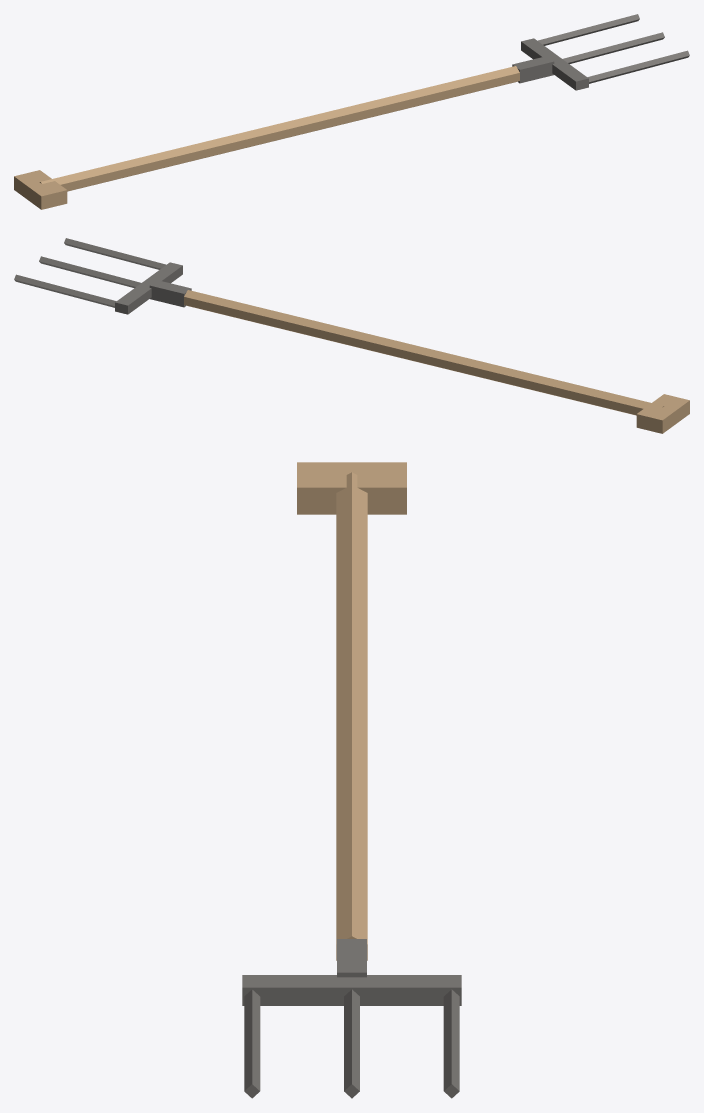
Rendered from prop-pitchfork-fp1.fbx.
3 renders of one model, top to bottom at view 1: azimuth 30°, elevation 25°; view 2: azimuth 150°, elevation 25°; view 3: azimuth 270°, elevation 25°, orthographic. The views are drawn at different scales.
Parts seen in each view (by area): view 1: prop-pitchfork-fp1; view 2: prop-pitchfork-fp1; view 3: prop-pitchfork-fp1.
Part boxes in pixels (box(x1,y1,x2,y2)): prop-pitchfork-fp1: box(14, 14, 689, 209); prop-pitchfork-fp1: box(14, 238, 689, 433); prop-pitchfork-fp1: box(242, 462, 461, 1098).
Bounding box in the file's own units: 1.47 × 0.036 × 0.22.
